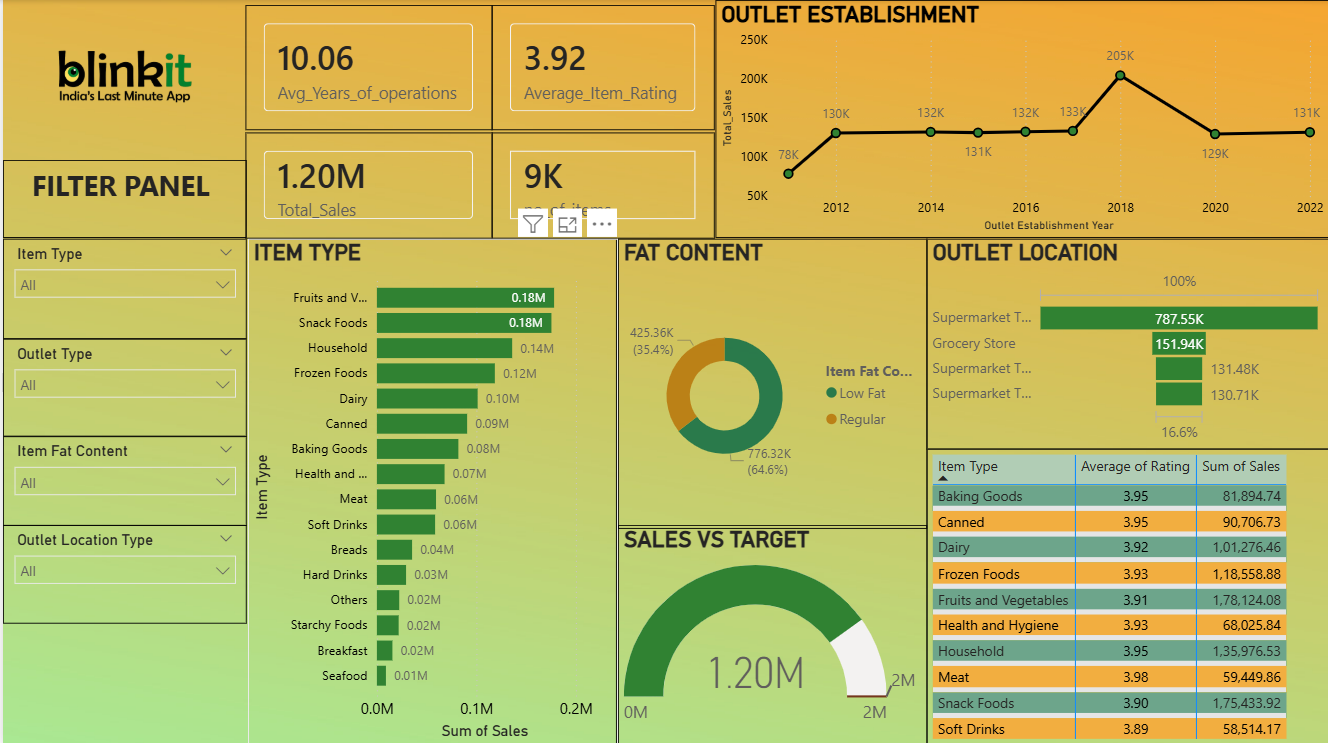

What the dashboard file says about the page in this screenshot:
{"tool":"powerbi","page":{"name":"Blinkit","canvas":[1280,720],"ordinal":0},"visuals":[{"type":"cardVisual","fields":{"Data":["BlinkIT Grocery Data.Total_Sales"]},"box":[234,127.8,238,102.2],"z":0},{"type":"cardVisual","fields":{"Data":["BlinkIT Grocery Data.Average_Item_Rating"]},"box":[472,5.4,215.2,121],"z":1000},{"type":"cardVisual","fields":{"Data":["BlinkIT Grocery Data.Avg_Years_of_operations"]},"box":[234,5.4,238,121],"z":2000},{"type":"cardVisual","fields":{"Data":["BlinkIT Grocery Data.no_of_items"]},"box":[472,127.8,215.2,102.2],"z":3000},{"type":"barChart","title":"ITEM TYPE","fields":{"Category":["Items.Item Type"],"Y":["Sum(BlinkIT Grocery Data.Sales)"]},"box":[236.7,230,356.4,489.5],"z":4000},{"type":"lineChart","title":"OUTLET ESTABLISHMENT","fields":{"Y":["BlinkIT Grocery Data.Total_Sales"],"Category":["Outlet Info.Outlet Establishment Year"]},"box":[687.2,0,593.1,230],"z":5000},{"type":"donutChart","title":"FAT CONTENT","fields":{"Category":["Items Content.Item Fat Content"],"Y":["BlinkIT Grocery Data.Total_Sales"]},"box":[593.1,230,298.6,279.7],"z":6000},{"type":"funnel","title":"OUTLET LOCATION","fields":{"Y":["BlinkIT Grocery Data.Total_Sales"],"Category":["Outlet Info.Outlet Type"]},"box":[891.6,230,388.7,203.1],"z":7000},{"type":"gauge","title":"SALES VS TARGET","fields":{"Y":["BlinkIT Grocery Data.Total_Sales"],"TargetValue":["BlinkIT Grocery Data.Sales Target"],"MaxValue":["BlinkIT Grocery Data.max sales"],"MinValue":["BlinkIT Grocery Data.Min sales"]},"box":[593.1,507,298.6,212.5],"z":8000},{"type":"slicer","fields":{"Values":["Items.Item Type"]},"box":[0,230,235.3,96.8],"z":9000},{"type":"pivotTable","fields":{"Values":["Avg(BlinkIT Grocery Data.Rating)","Sum(BlinkIT Grocery Data.Sales)"],"Rows":["Items.Item Type"]},"box":[891.6,433,388.7,286.4],"z":10000},{"type":"slicer","fields":{"Values":["Outlet Info.Outlet Type"]},"box":[0,326.8,235.3,94.1],"z":11000},{"type":"slicer","fields":{"Values":["Items Content.Item Fat Content"]},"box":[0,420.9,235.3,86.1],"z":12000},{"type":"slicer","fields":{"Values":["Outlet Location.Outlet Location Type"]},"box":[0,507,235.3,95.5],"z":13000},{"type":"textbox","box":[0,154.7,235.3,75.3],"z":14000},{"type":"image","box":[0,0,235.3,150.6],"z":15000}]}

Visuals, with their boxes in screenshot pixels (x1, y1, x2, y2), scaled from the page's 1280x720 canvas onto the 1328x743 screenshot:
cardVisual - BlinkIT Grocery Data.Total_Sales: [243, 132, 490, 237]
cardVisual - BlinkIT Grocery Data.Average_Item_Rating: [490, 6, 713, 130]
cardVisual - BlinkIT Grocery Data.Avg_Years_of_operations: [243, 6, 490, 130]
cardVisual - BlinkIT Grocery Data.no_of_items: [490, 132, 713, 237]
"ITEM TYPE" barChart: [246, 237, 615, 742]
"OUTLET ESTABLISHMENT" lineChart: [713, 0, 1327, 237]
"FAT CONTENT" donutChart: [615, 237, 925, 526]
"OUTLET LOCATION" funnel: [925, 237, 1327, 447]
"SALES VS TARGET" gauge: [615, 523, 925, 742]
slicer - Items.Item Type: [0, 237, 244, 337]
pivotTable - Avg(BlinkIT Grocery Data.Rating) x Sum(BlinkIT Grocery Data.Sales): [925, 447, 1327, 742]
slicer - Outlet Info.Outlet Type: [0, 337, 244, 434]
slicer - Items Content.Item Fat Content: [0, 434, 244, 523]
slicer - Outlet Location.Outlet Location Type: [0, 523, 244, 622]
textbox: [0, 160, 244, 237]
image: [0, 0, 244, 155]
